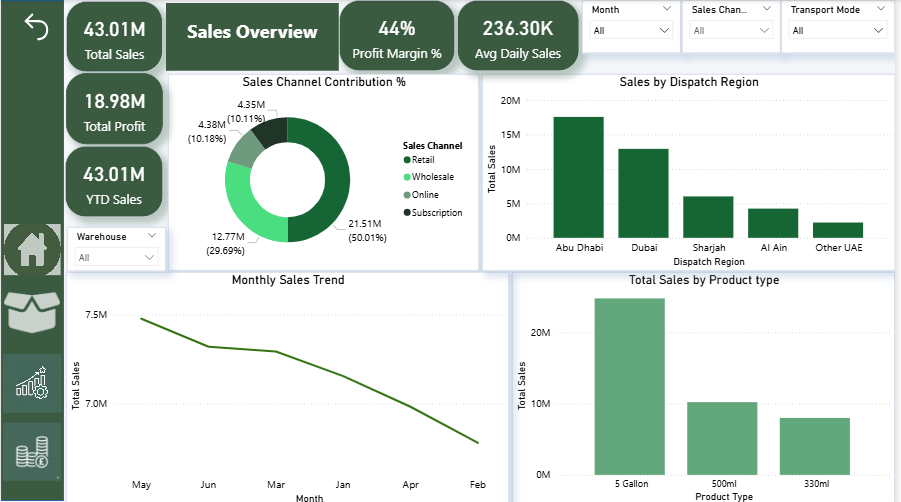

The dashboard page shown, as its layout file describes it:
{"tool":"powerbi","page":{"name":"Sales overview","canvas":[1293,735],"ordinal":2},"visuals":[{"type":"card","fields":{"Values":["Measure Table.Total Sales"]},"box":[94,1.4,140.3,102.7],"z":0},{"type":"card","fields":{"Values":["Measure Table.Profit Margin %"]},"box":[489,0,167.8,102.7],"z":1000},{"type":"card","fields":{"Values":["Measure Table.YTD Sales"]},"box":[92.6,211.2,141.8,102.7],"z":2000},{"type":"donutChart","title":"Sales Channel Contribution %","fields":{"Category":["Rawda_procudtion_sales.Sales Channel"],"Y":["Measure Table.Total Sales"]},"box":[241.6,107.1,450,285],"z":3000},{"type":"clusteredColumnChart","title":"Total Sales by Product type","fields":{"Category":["Rawda_procudtion_sales.Product Type"],"Y":["Measure Table.Total Sales"]},"box":[738.8,393.5,554.1,338.6],"z":4000},{"type":"lineChart","title":"Monthly Sales Trend","fields":{"Category":["Rawda_procudtion_sales.Month"],"Y":["Measure Table.Total Sales"]},"box":[94,393.5,641,341.5],"z":5000},{"type":"clusteredColumnChart","title":"Sales by Dispatch Region","fields":{"Category":["Rawda_procudtion_sales.Dispatch Region"],"Y":["Measure Table.Total Sales"]},"box":[695.9,107.1,597.5,285],"z":6000},{"type":"card","fields":{"Values":["Measure Table.Avg Daily Sales"]},"box":[659.8,0,176.5,102.7],"z":7000},{"type":"shape","box":[0,0,91.2,724.9],"z":8000,"group":"g1"},{"type":"card","fields":{"Values":["Measure Table.Total Profit"]},"box":[94,105.6,140.3,102.7],"z":9000},{"type":"slicer","fields":{"Values":["Rawda_procudtion_sales.Date.Variation.Date Hierarchy.Month"]},"box":[840.6,0,143.2,76.7],"z":10000},{"type":"slicer","fields":{"Values":["Rawda_procudtion_sales.Warehouse"]},"box":[95.5,328.4,143.2,63.7],"z":11000},{"type":"slicer","fields":{"Values":["Rawda_procudtion_sales.Sales Channel"]},"box":[985.3,0,143.2,76.7],"z":12000},{"type":"slicer","fields":{"Values":["Rawda_procudtion_sales.Transport Mode"]},"box":[1128.5,0,164.9,76.7],"z":13000},{"type":"actionButton","box":[4.3,408,81,88.3],"z":14000,"group":"g1"},{"type":"actionButton","box":[4.3,324.1,82.5,73.8],"z":15000,"group":"g1"},{"type":"actionButton","box":[26,4.3,50.6,69.4],"z":16000,"group":"g1"},{"type":"textbox","box":[238.7,4.3,250.3,98.4],"z":17000},{"type":"actionButton","box":[2.9,594.7,83.9,118.6],"z":19000,"group":"g1"},{"type":"actionButton","box":[2.9,512.2,85.4,85.4],"z":20000,"group":"g1"},{"type":"group","id":"g1","title":"Group 1","box":[0,0,91.2,724.9],"z":20001}]}

Visuals, with their boxes on the page's 1293x735 design canvas (x1, y1, x2, y2). These are canvas units, not pixel positions in the 901x502 screenshot, which may show the page scaled, cropped or inside an application window:
card - Measure Table.Total Sales: select_region(94, 1, 234, 104)
card - Measure Table.Profit Margin %: select_region(489, 0, 657, 103)
card - Measure Table.YTD Sales: select_region(93, 211, 234, 314)
"Sales Channel Contribution %" donutChart: select_region(242, 107, 692, 392)
"Total Sales by Product type" clusteredColumnChart: select_region(739, 394, 1293, 732)
"Monthly Sales Trend" lineChart: select_region(94, 394, 735, 735)
"Sales by Dispatch Region" clusteredColumnChart: select_region(696, 107, 1293, 392)
card - Measure Table.Avg Daily Sales: select_region(660, 0, 836, 103)
shape: select_region(0, 0, 91, 725)
card - Measure Table.Total Profit: select_region(94, 106, 234, 208)
slicer - Rawda_procudtion_sales.Date.Variation.Date Hierarchy.Month: select_region(841, 0, 984, 77)
slicer - Rawda_procudtion_sales.Warehouse: select_region(96, 328, 239, 392)
slicer - Rawda_procudtion_sales.Sales Channel: select_region(985, 0, 1128, 77)
slicer - Rawda_procudtion_sales.Transport Mode: select_region(1128, 0, 1293, 77)
actionButton: select_region(4, 408, 85, 496)
actionButton: select_region(4, 324, 87, 398)
actionButton: select_region(26, 4, 77, 74)
textbox: select_region(239, 4, 489, 103)
actionButton: select_region(3, 595, 87, 713)
actionButton: select_region(3, 512, 88, 598)
"Group 1" group: select_region(0, 0, 91, 725)
